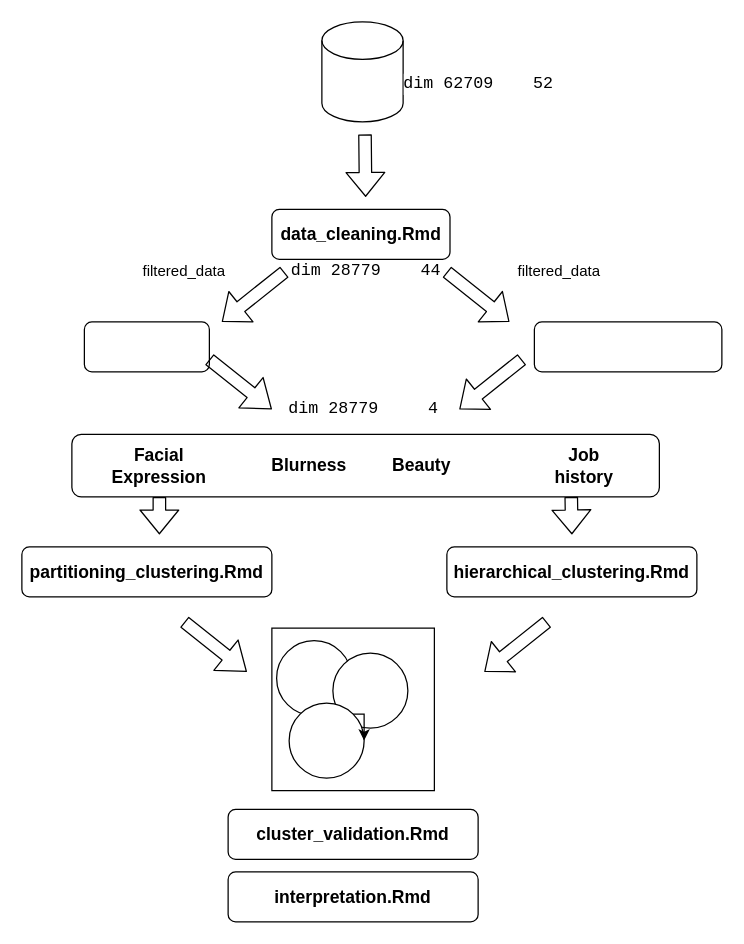
This 744x944 diagram has some shape labels left out. The shapes that lost their labels are listed below. From the top down, each one's box as (x1, y1, x2, y2) in pixels, then its label:
(321, 21, 403, 122): LinkedIN Data
(83, 321, 209, 372): pca.Rmd
(533, 321, 722, 372): factor_analysis.Rmd
